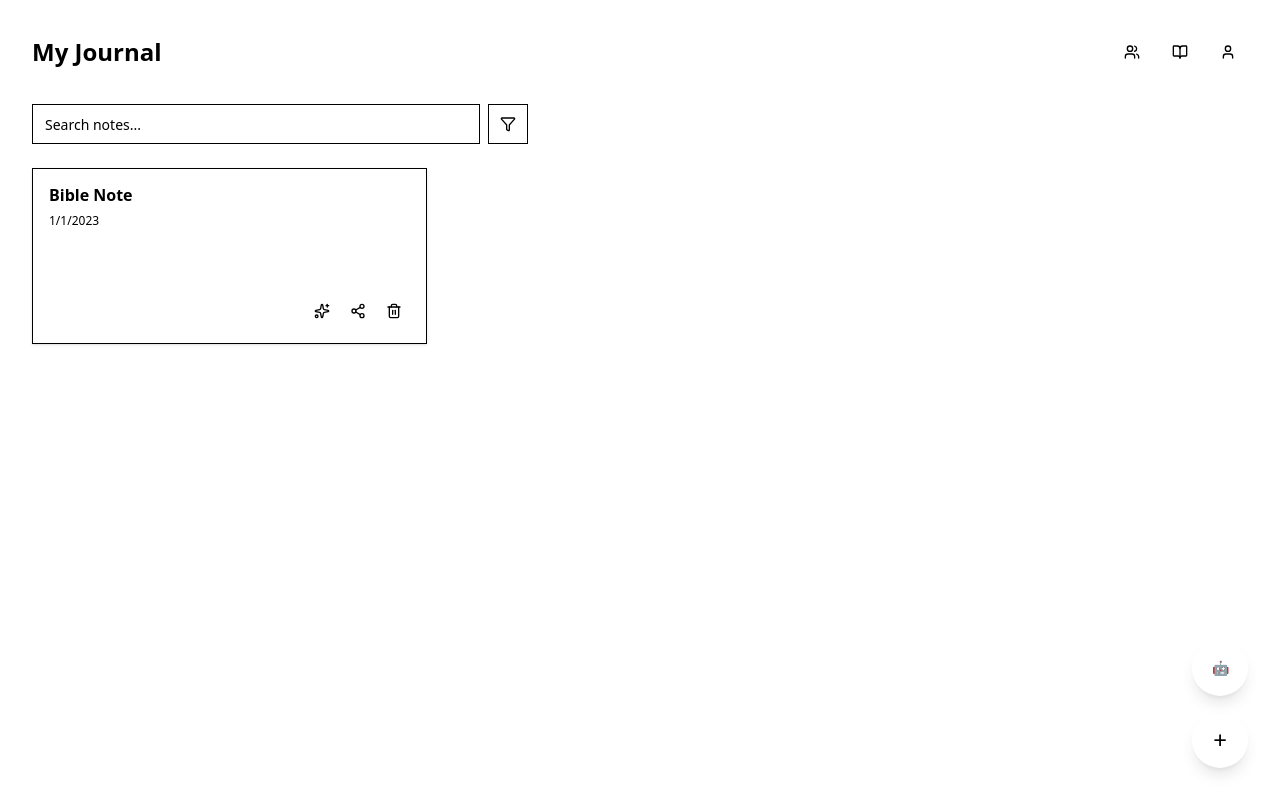
Dashboard › asks AI about a note
The width and height of the screenshot is (1280, 800).
Click the button titled "Ask AI": point(322, 311) [306,295,338,327]
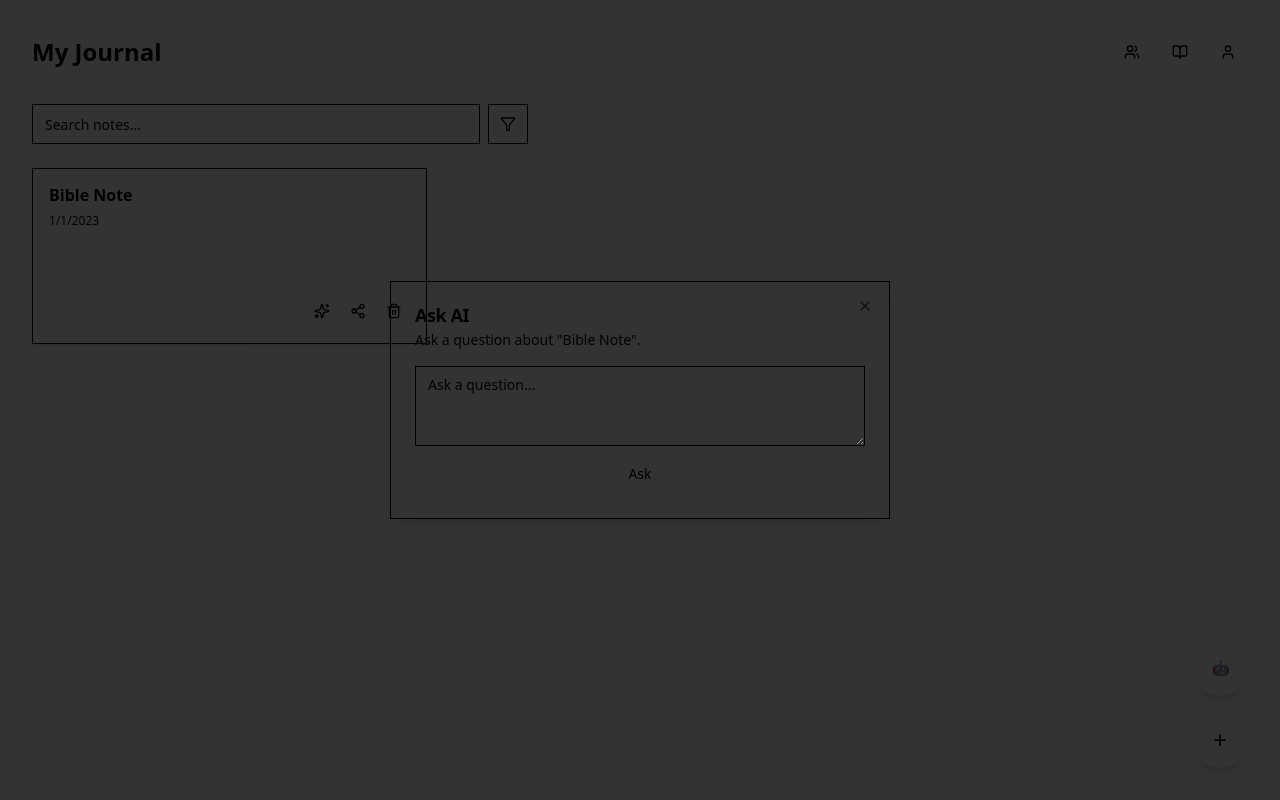
Expected: the heading "Ask AI" is shown, [415,303,469,327]
In the text box with placeholder "Ask a question...": point(640, 406) [415,366,865,446], type "What happened?"
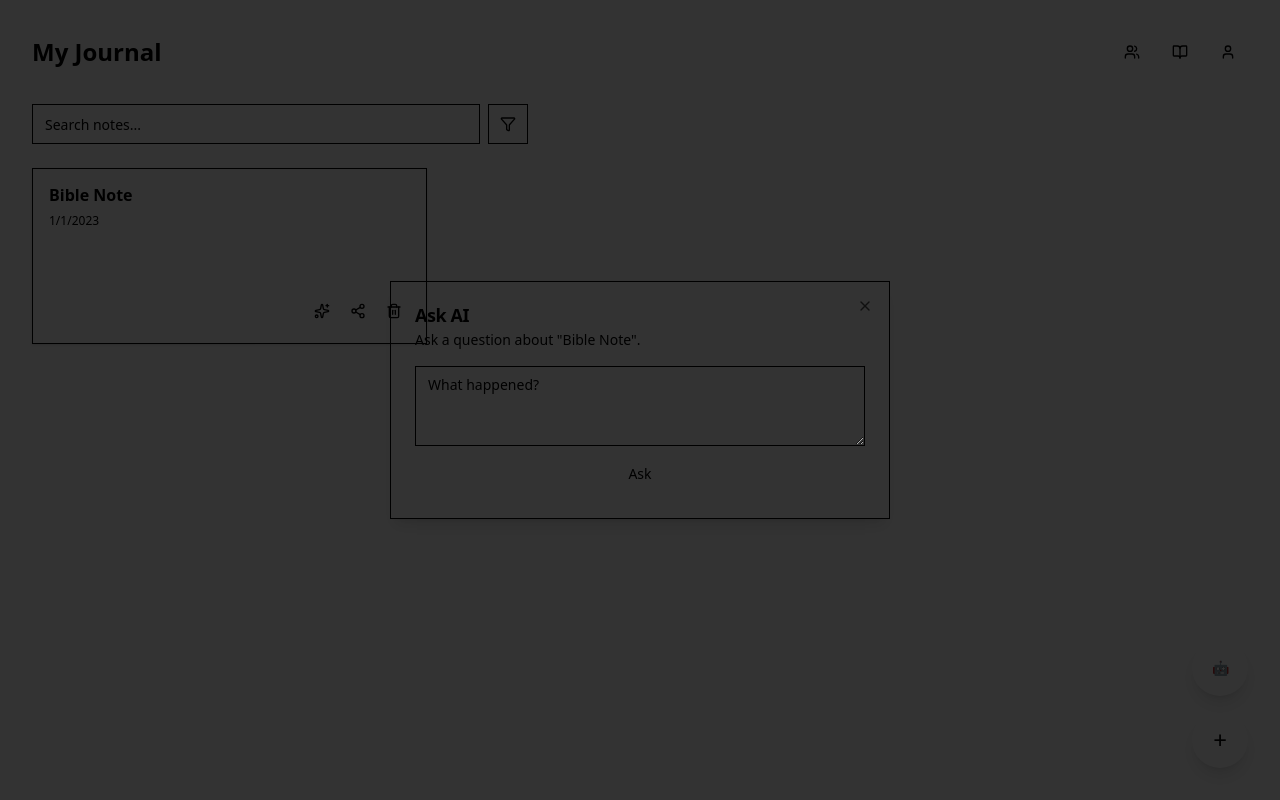
Click the button "Ask": point(640, 474) [415,454,865,494]
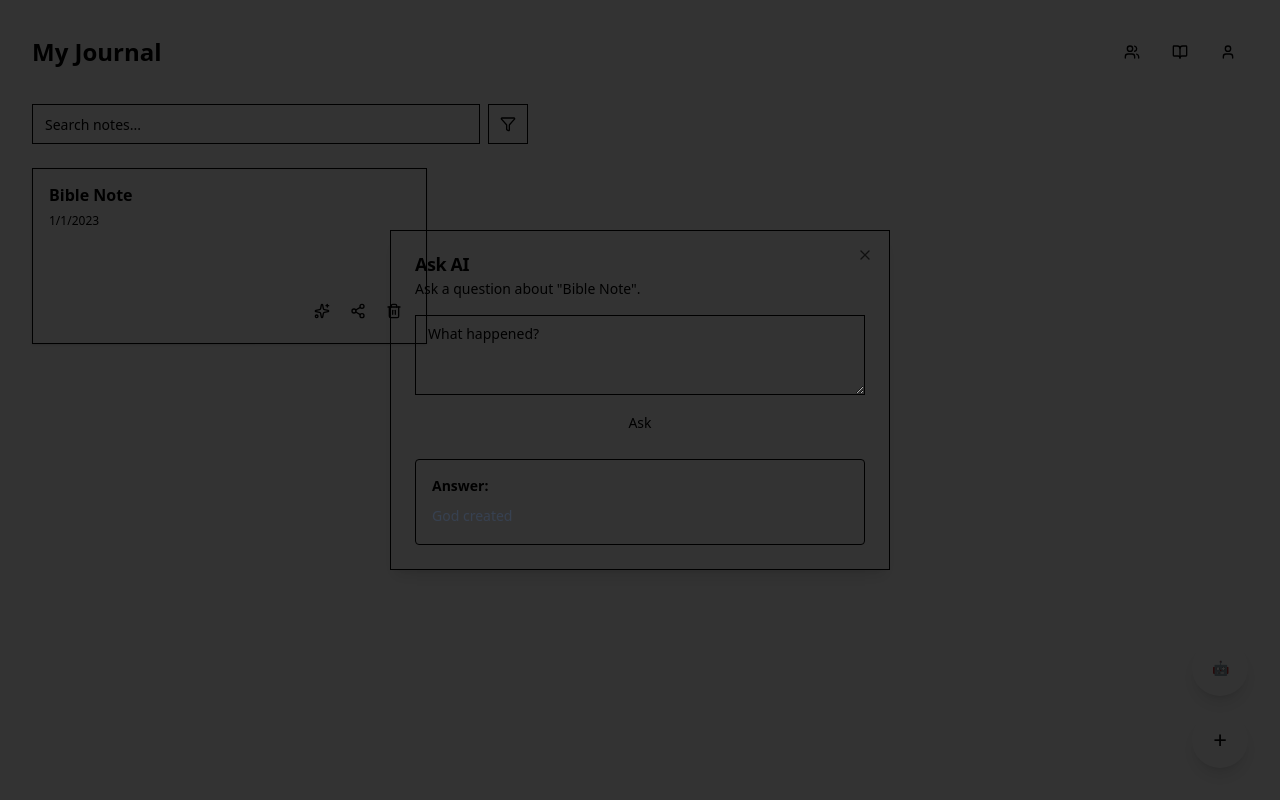
Expected: the text "God created" is shown, [432,506,512,525]
